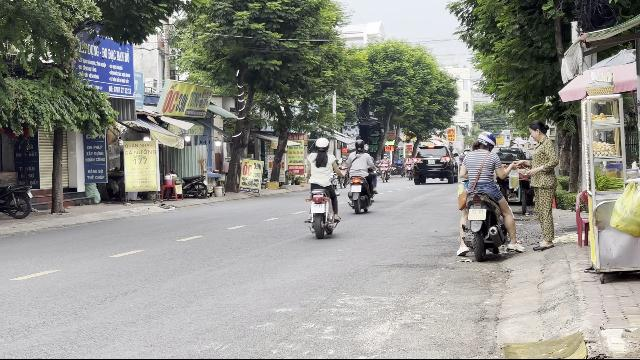helmet: (474, 132, 496, 150), (314, 138, 330, 152)
licenseplate: (468, 208, 486, 220), (312, 204, 324, 212)
motorcyclist: (452, 129, 518, 260), (303, 136, 341, 237)
